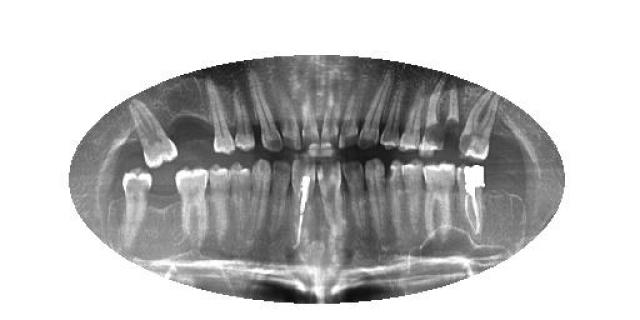Cavity: (419, 80, 461, 158), (458, 90, 498, 159), (383, 158, 405, 234)
Implant: (454, 164, 486, 234), (294, 164, 315, 254)
